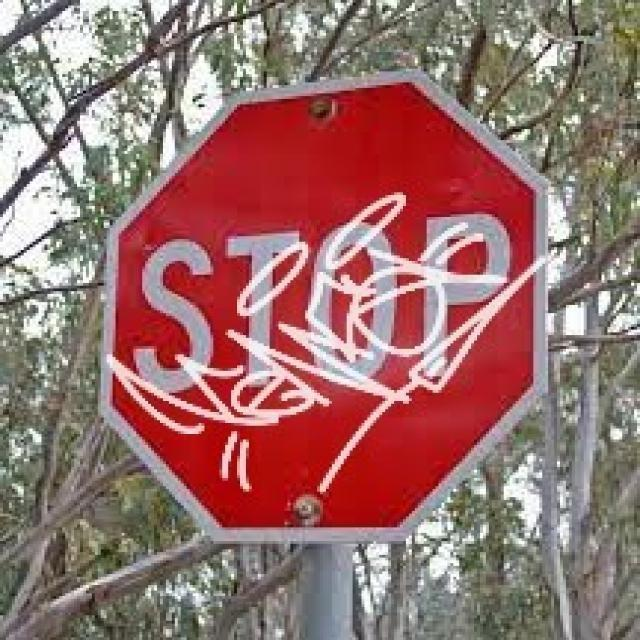Stop-Sign: (131, 96, 519, 520)
